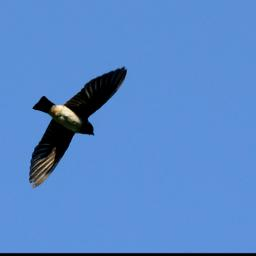Swallow: (25, 65, 124, 189)
